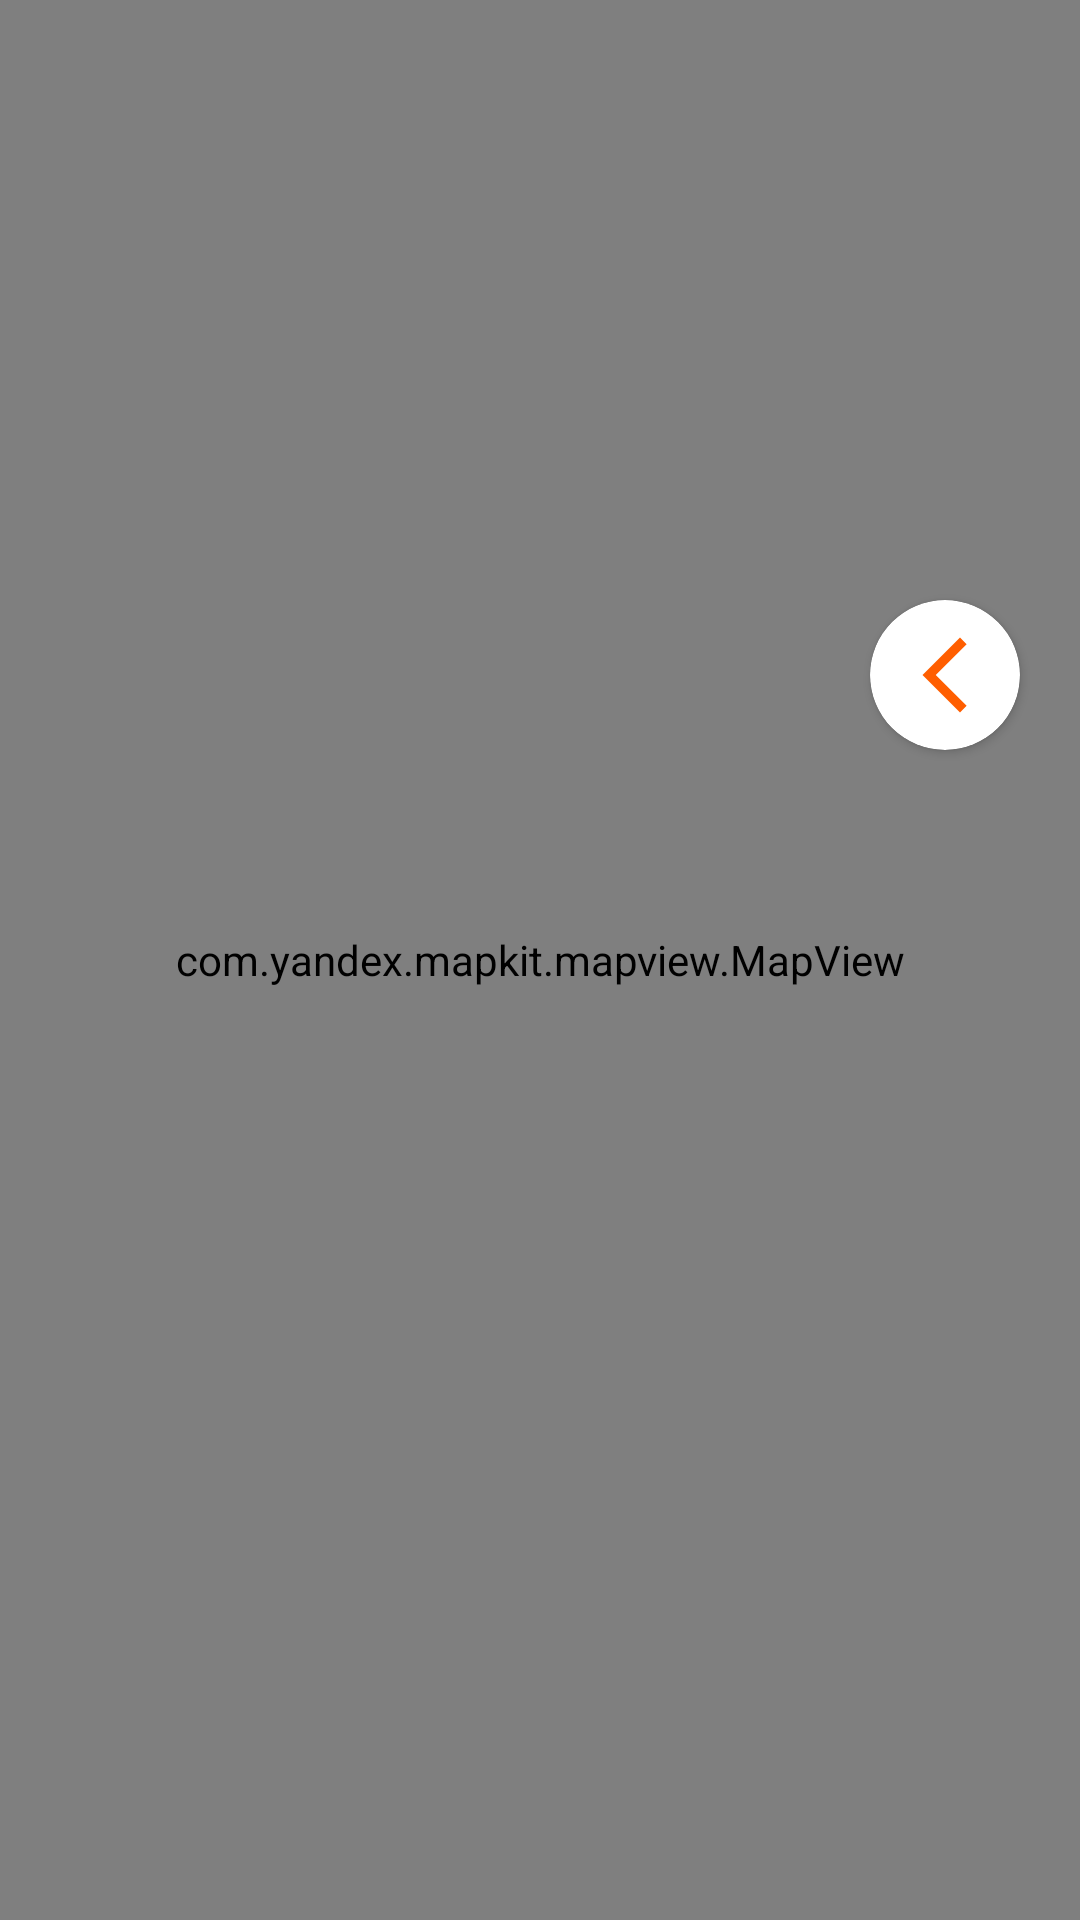

Where to tap for icons on this 1080w x 1920h app screen, as (x,y):
back: (944,675)
